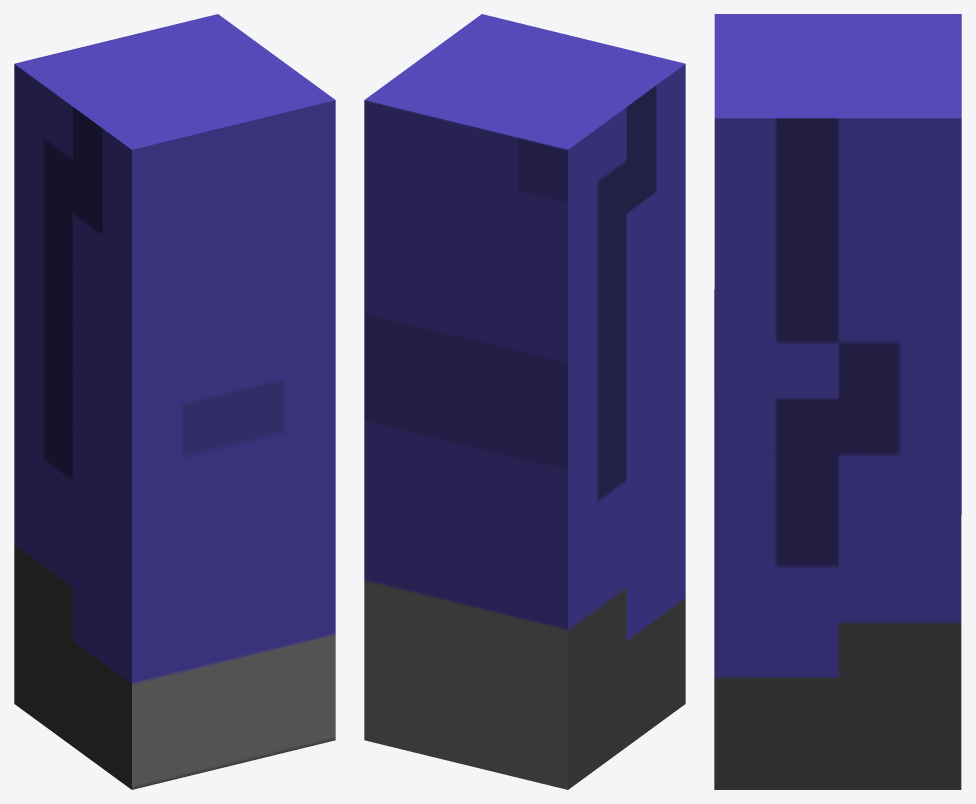
File: leg.obj
3 renders of one model, left to right at view 1: azimuth 30°, elevation 25°; view 2: azimuth 150°, elevation 25°; view 3: azimuth 270°, elevation 25°, orthographic. The views are drawn at different scales.
Bounding box in the file's own units: 8 × 24 × 8.
1 material, 1 textured.
